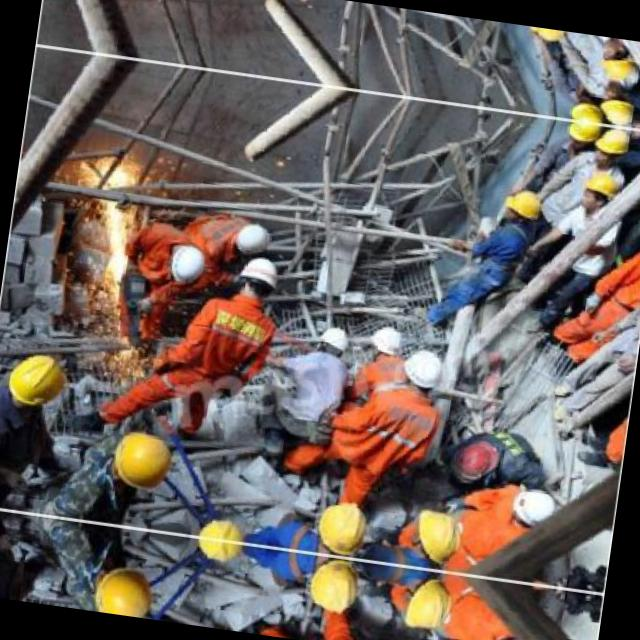helmet: (2, 345, 74, 415), (110, 424, 178, 496), (394, 570, 459, 634), (402, 505, 468, 568), (91, 559, 159, 618), (312, 494, 373, 556), (304, 556, 364, 618), (502, 482, 564, 534), (452, 432, 508, 482), (394, 344, 446, 396), (234, 252, 284, 304), (162, 238, 212, 284), (576, 168, 622, 218), (594, 36, 640, 81), (500, 184, 544, 230), (228, 220, 272, 264), (314, 319, 354, 365), (368, 319, 406, 365), (593, 126, 633, 168), (599, 83, 639, 125), (564, 120, 604, 150), (568, 93, 608, 122), (526, 26, 568, 45), (481, 629, 544, 640)
